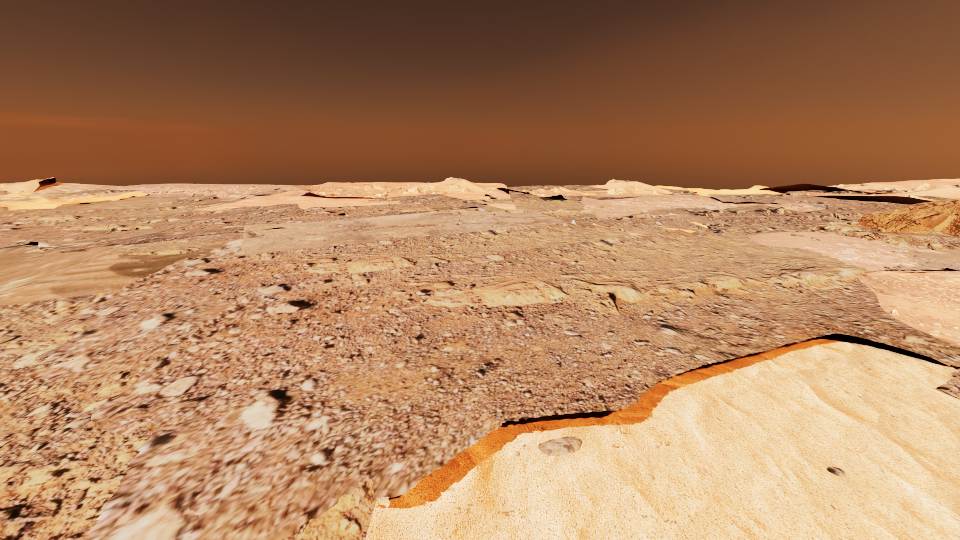bedrock: (0, 194, 606, 254), (399, 242, 867, 312), (608, 191, 959, 274), (0, 444, 138, 539), (281, 479, 376, 539), (290, 252, 483, 275), (120, 186, 302, 203), (106, 240, 224, 255), (529, 233, 605, 248), (538, 436, 581, 456), (935, 369, 959, 398), (507, 185, 608, 191), (547, 195, 582, 202), (915, 195, 956, 200), (509, 191, 543, 197), (826, 466, 845, 476), (665, 189, 696, 194), (74, 193, 108, 197), (584, 196, 625, 199), (632, 228, 648, 234), (866, 189, 897, 192), (829, 191, 865, 193), (577, 217, 602, 219)
rocks: (856, 199, 959, 236)
sand: (365, 334, 959, 539), (0, 239, 242, 305), (0, 183, 399, 213), (0, 344, 64, 368), (655, 186, 787, 195), (445, 183, 510, 199), (865, 179, 959, 188), (313, 182, 416, 187), (386, 192, 421, 197), (488, 203, 515, 209), (579, 191, 606, 194)
soil: (0, 190, 959, 539), (0, 206, 210, 246), (284, 201, 464, 222), (42, 184, 297, 197), (758, 185, 910, 203), (128, 233, 242, 248), (295, 185, 411, 197), (327, 224, 437, 232), (198, 217, 240, 224), (128, 194, 203, 197), (921, 184, 949, 190), (179, 224, 195, 230), (0, 207, 23, 211), (711, 216, 796, 217), (449, 189, 470, 193), (779, 203, 800, 206), (7, 198, 34, 200), (0, 191, 9, 194)
